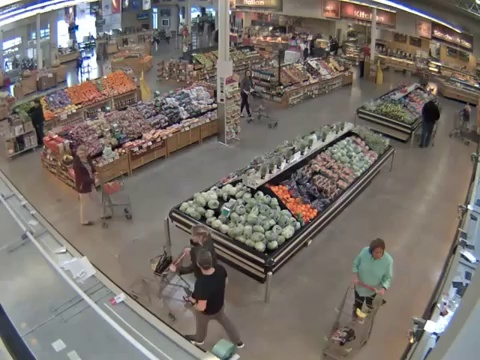face: (371, 242, 384, 259), (245, 71, 251, 77)
